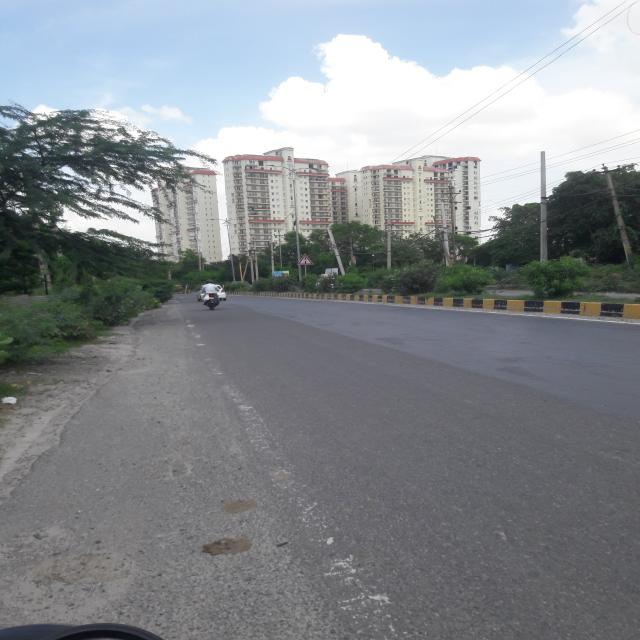GAP_IN_MEDIAN: (297, 253, 314, 265)
